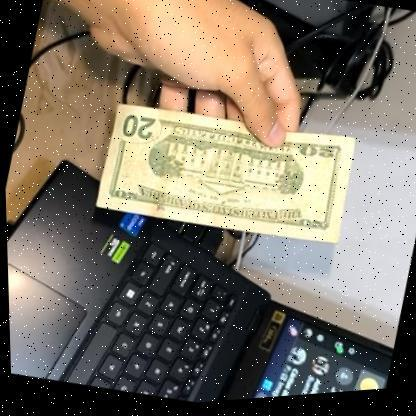twenty-back: (86, 87, 360, 270)
